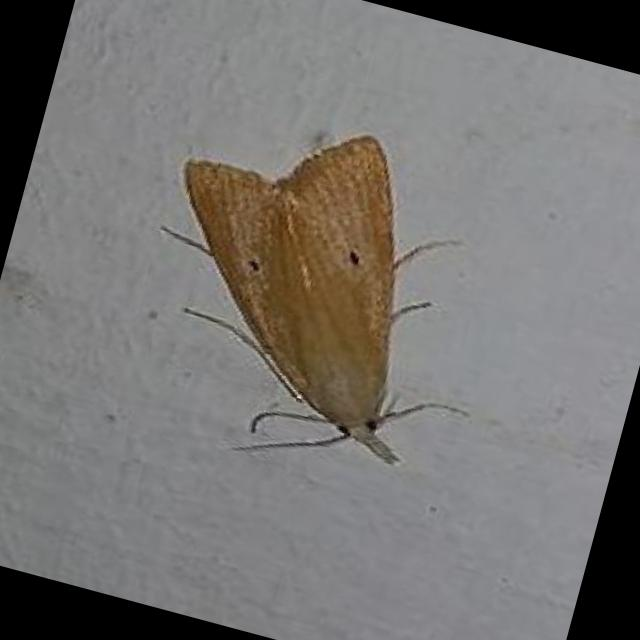stem-borer: (101, 83, 506, 494)
